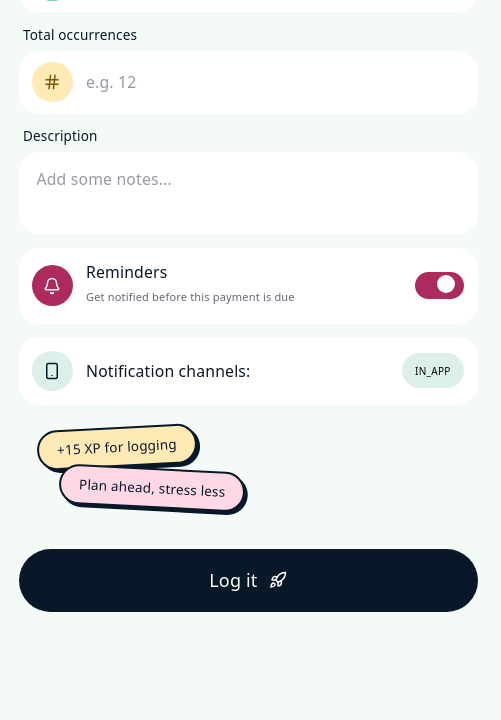
Scenario: ObligationForm Component › displays validation error messages when submitting empty required fields
(page scrolled)
Click the button with aria-label "log obligation" at (248, 580), box x1=18 y1=548 x2=478 y2=612
(page scrolled)
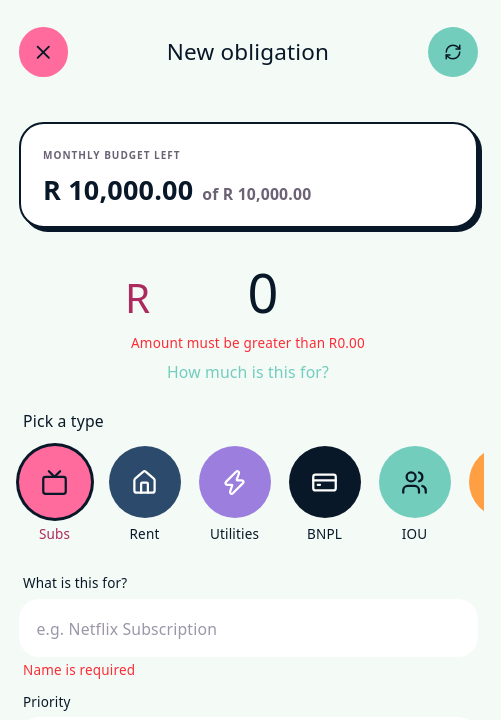
Check: the text "Name is required" is shown, box x1=23 y1=661 x2=135 y2=679
Check: the text "Amount must be greater than R0.00" is shown, box x1=131 y1=334 x2=365 y2=352
